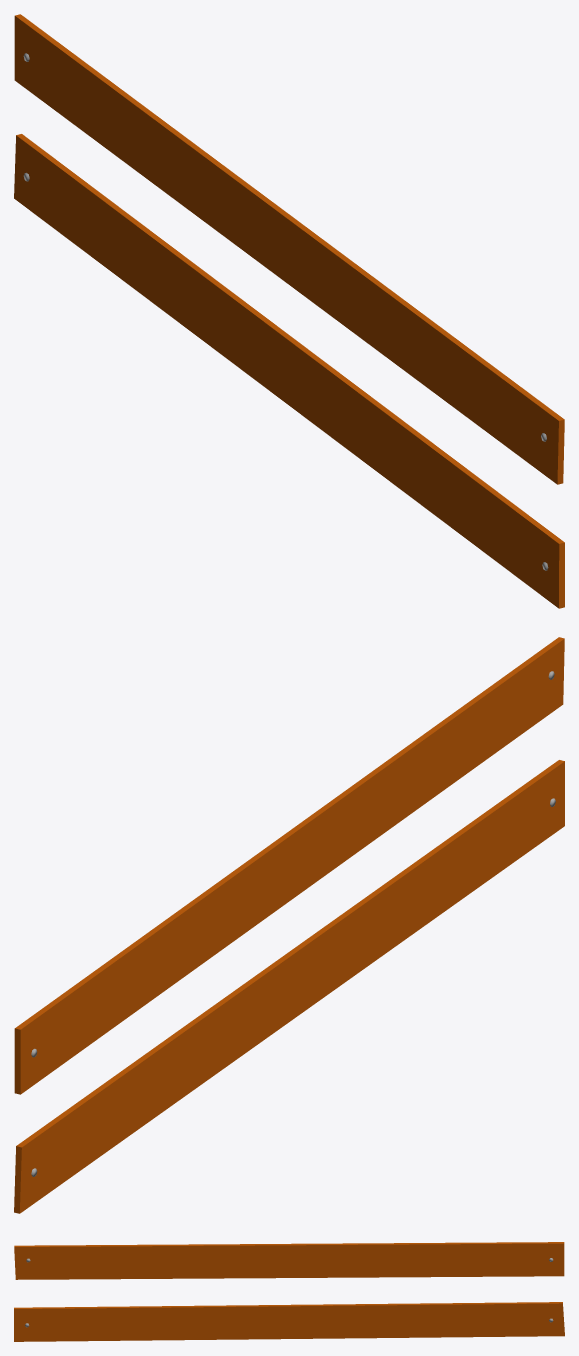
File: FenceConnector1.fbx
3 renders of one model, top to bottom at view 1: azimuth 30°, elevation 25°; view 2: azimuth 150°, elevation 25°; view 3: azimuth 270°, elevation 25°, orthographic. The views are drawn at different scales.
Parts seen in each view (by area): view 1: ConnectorPlanks1; view 2: ConnectorPlanks1; view 3: ConnectorPlanks1.
Boxes of the visible parts, left/top/right/bottom form: ConnectorPlanks1: left=14, top=14, right=564, bottom=608; ConnectorPlanks1: left=14, top=637, right=564, bottom=1213; ConnectorPlanks1: left=14, top=1242, right=564, bottom=1341.
Bounding box in the file's own units: 11.3 × 239 × 1210.
